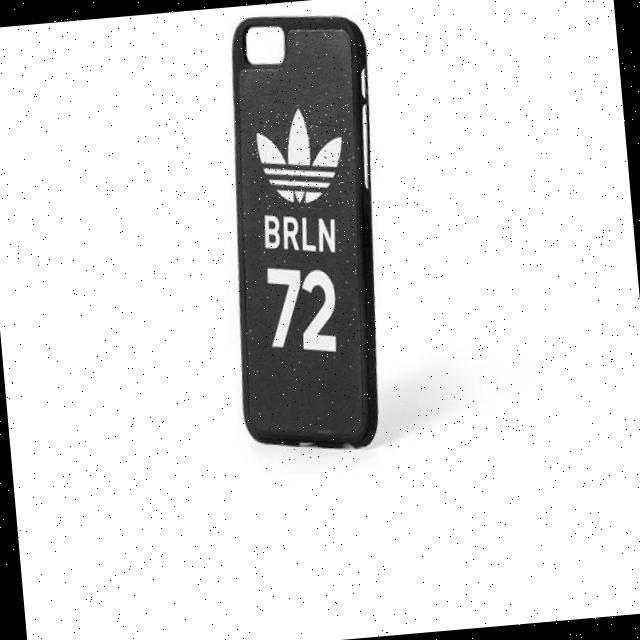Adidas: (248, 103, 357, 213)
